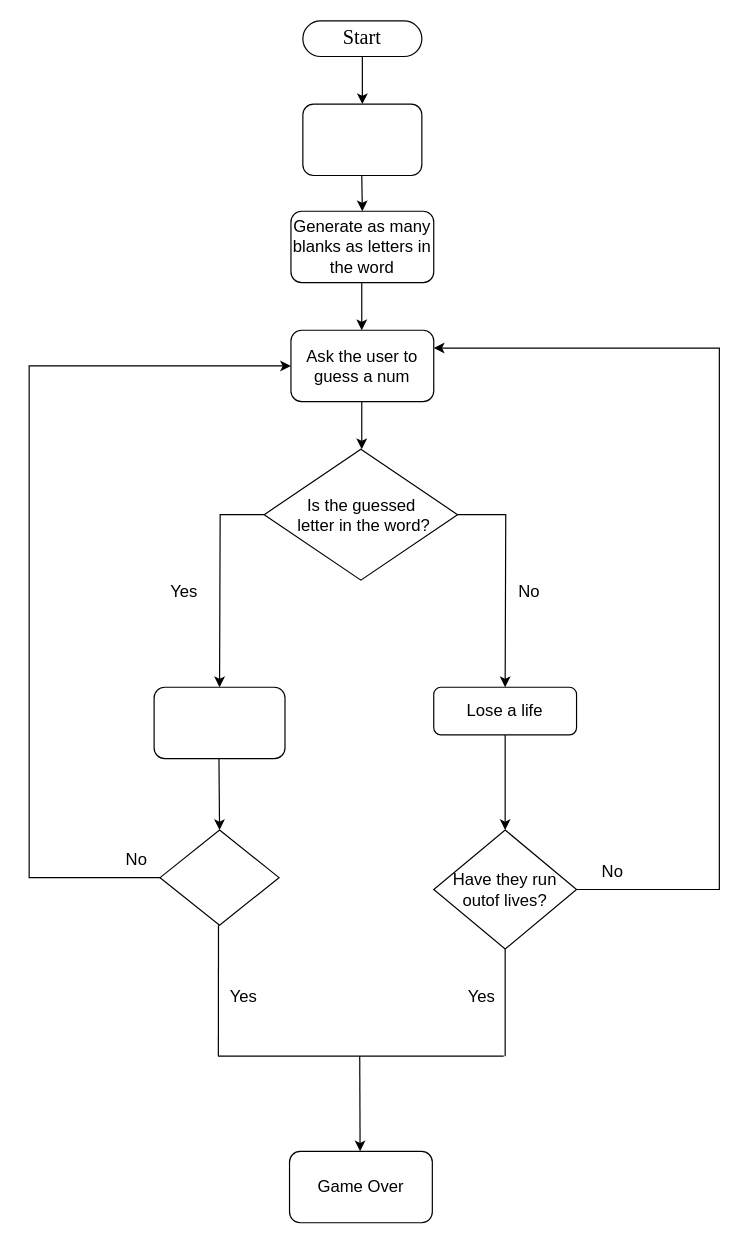
Some shapes in this 750 by 1244 pixel diagram are drawn without their labels. The shapes that lost their labels are listed below. From the top down, each one's centre as x and y in pixels, then its label:
(x=362, y=139): Generate a random word
(x=219, y=722): Replace the blank with the letter
(x=219, y=877): Are al the blanks filled?
